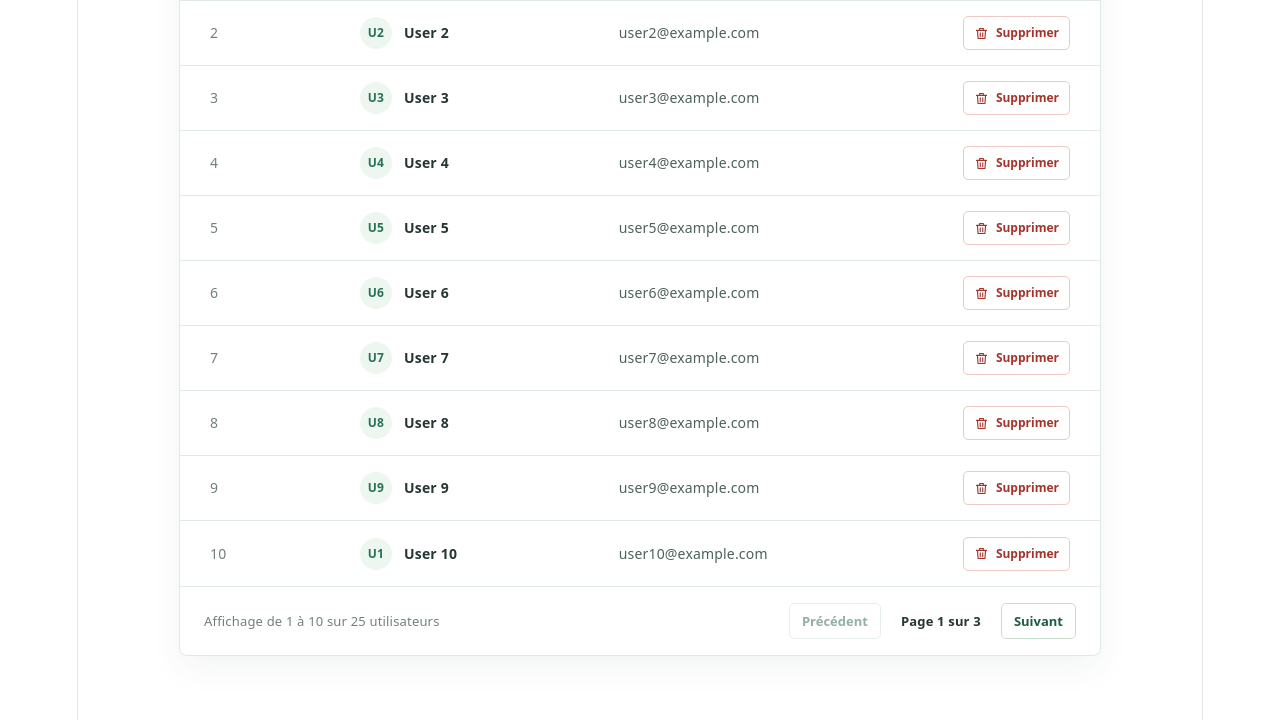
Test case: UsersList pagination › charge la première page, navigue suivant/précédent et affiche les métadonnées
This screenshot has width=1280, height=720.
(page scrolled)
Expected: the button "Précédent" is disabled, [789,603,881,639]
Click the button with class "next-page": (1038, 621) [1001,603,1076,639]
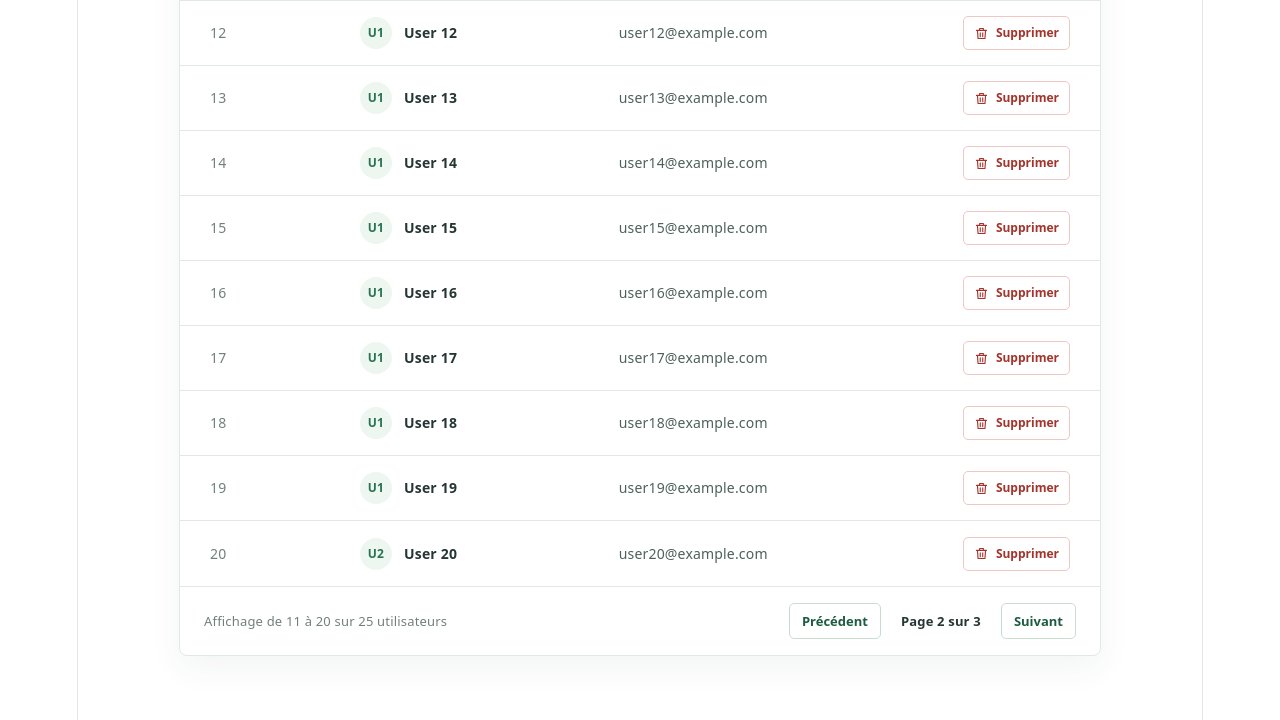
Now the text "Page 2 sur 3" is shown, box [901,612,981,630]
Now the text "Affichage de 11 à 20 sur 25 utilisateurs" is shown, box [204,608,447,634]
Click the button "Précédent": (835, 621) [789,603,881,639]
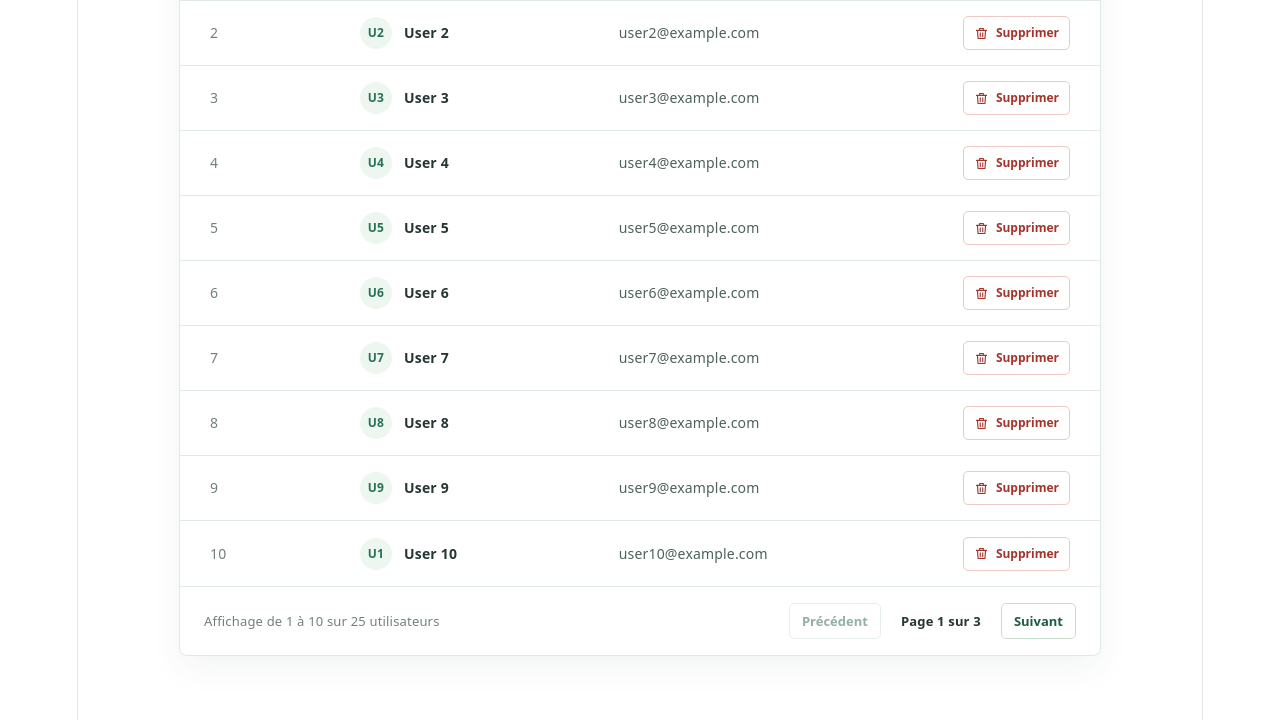
Now the text "Page 1 sur 3" is shown, box [901,612,981,630]
